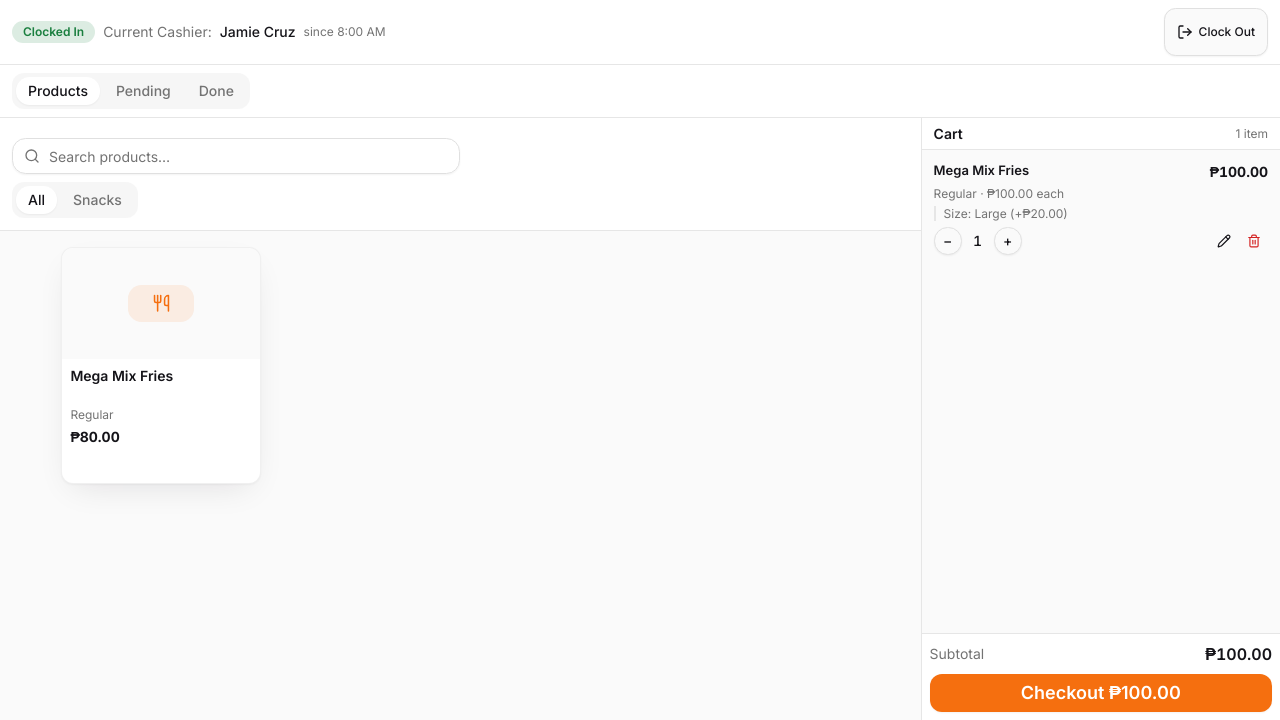
Test: TerminalPage — Add-ons dialog splits into cart lines before adding (Task 107) › shows the selected option name and price adjustment in the cart, and folds the adjustment into the line total
Check: the text "Size: Large (+₱20.00)" is shown, box [944,206,1068,221]
Click the button "Checkout ₱100.00": (1101, 693) [930,674,1272,712]
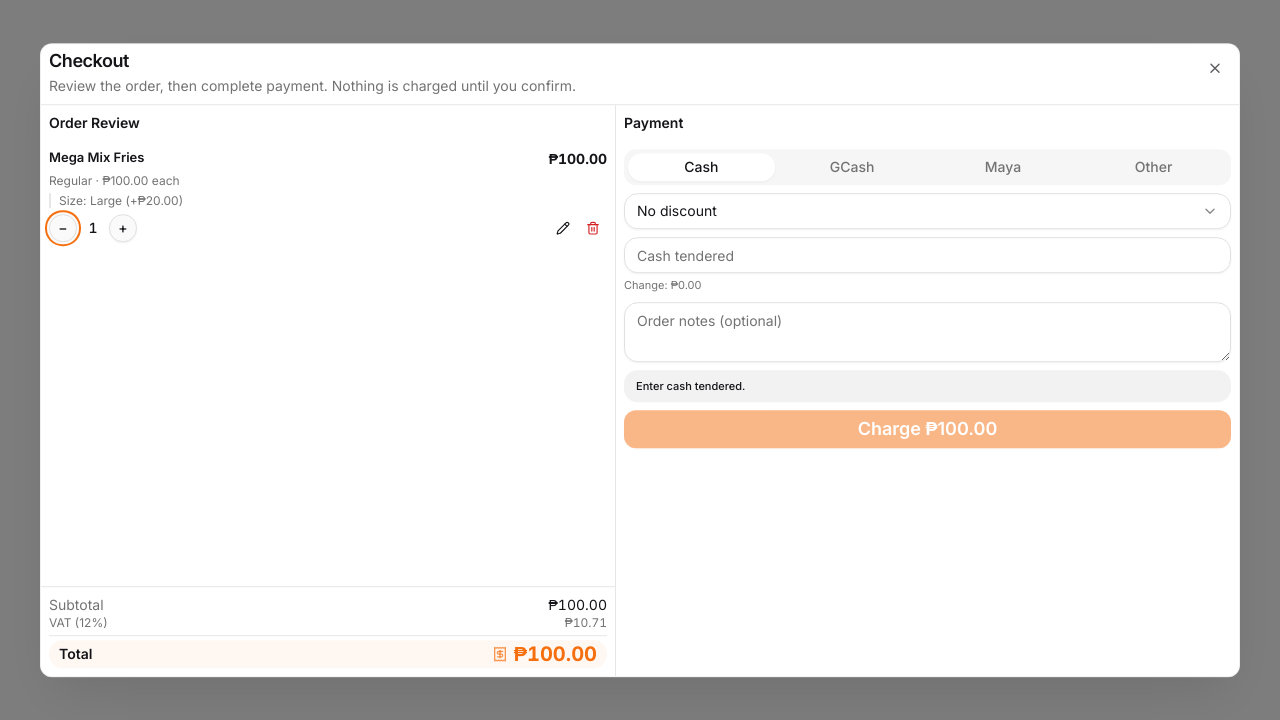
In the number field with placeholder "Cash tendered": (928, 255) [624,237,1231,273], type "80"
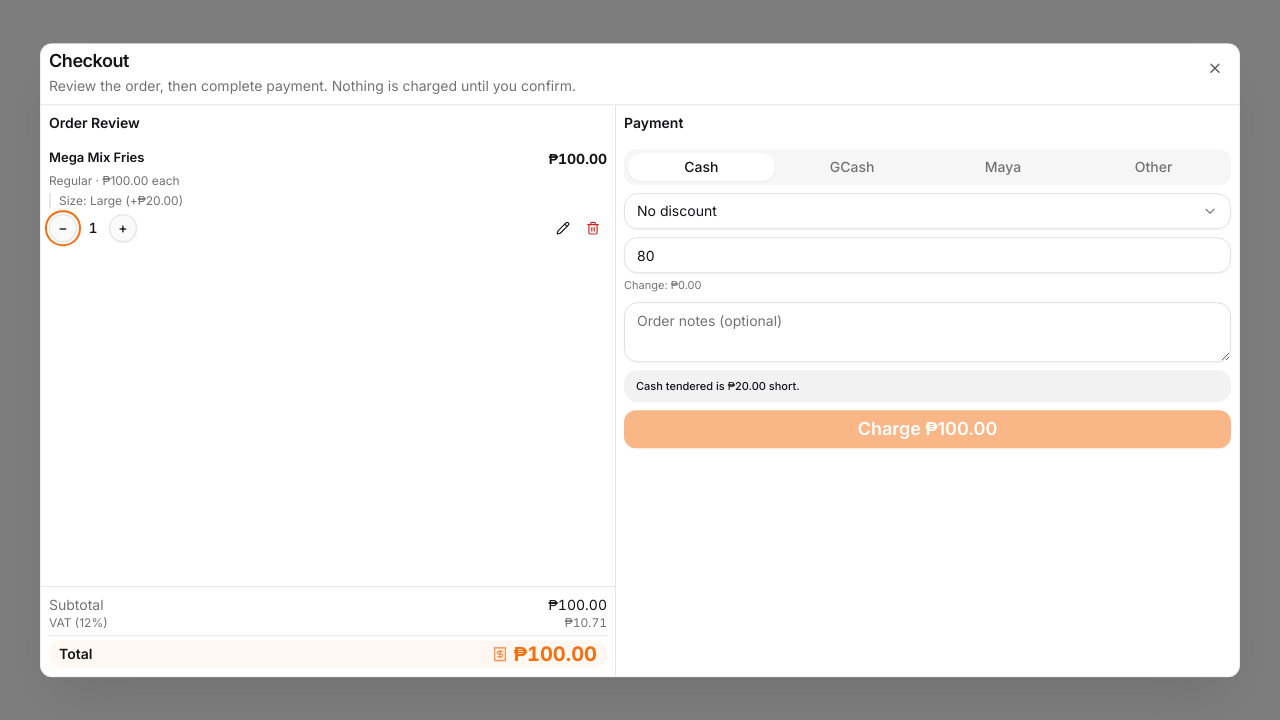
Check: the text "Cash tendered is ₱20.00 short." is shown, box [636,379,799,393]
